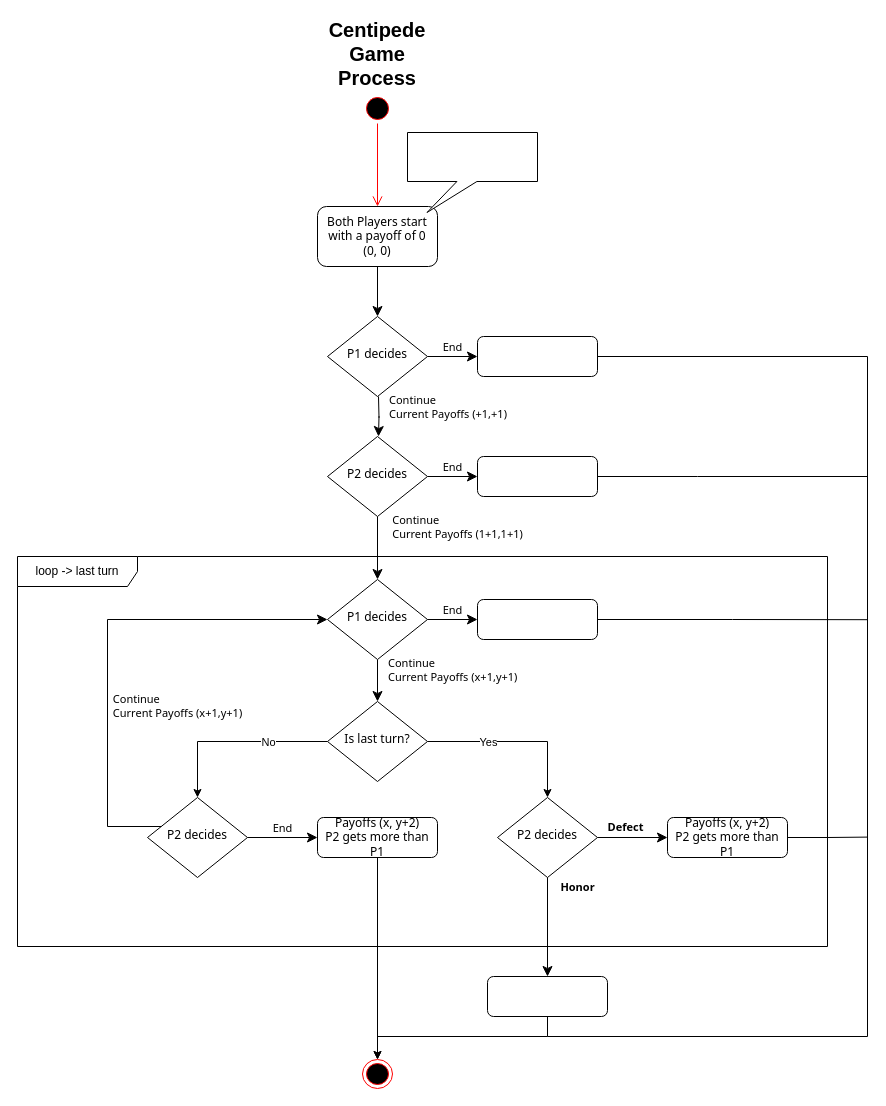
Some shapes in this 886 by 1106 pixel diagram are drawn without their labels. Each missing label, with the centre of its shape:
(Payoff P1, Payoff P2): (x=472, y=172)
Payoffs (+2, 0) P1 gets more than P2: (x=537, y=356)
Payoffs (1, 1+2) P1 gets more than P2: (x=537, y=476)
Payoffs (x+2, y) P1 gets more than P2: (x=537, y=619)
Payoffs (x+2, y+2) Both get the same: (x=547, y=996)
